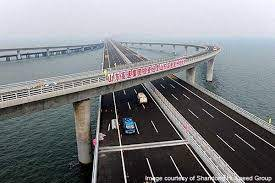bridge: (1, 39, 221, 120)
